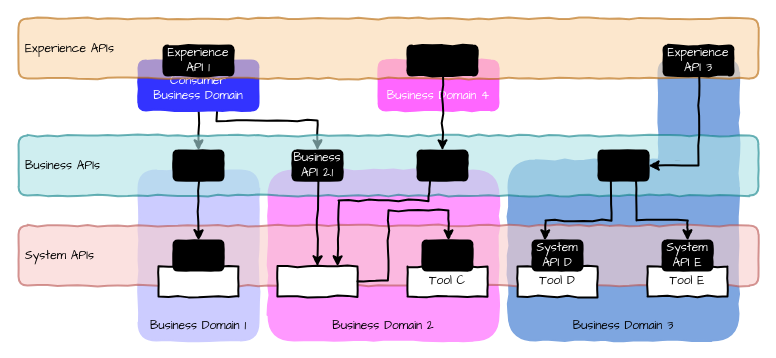
Image size: 776x358. Some labels were removed from this diagram. Each missing label, with the centre of its shape:
"Business API 1" belongs at point (198, 165).
"Business API 2.2" belongs at point (442, 165).
"Business API 3" belongs at point (623, 165).
"Experience API 2" belongs at point (442, 60).
"System API A" belongs at point (198, 255).
"System API C" belongs at point (447, 255).
"Tool A" belongs at point (198, 281).
"Tool B" belongs at point (317, 281).
